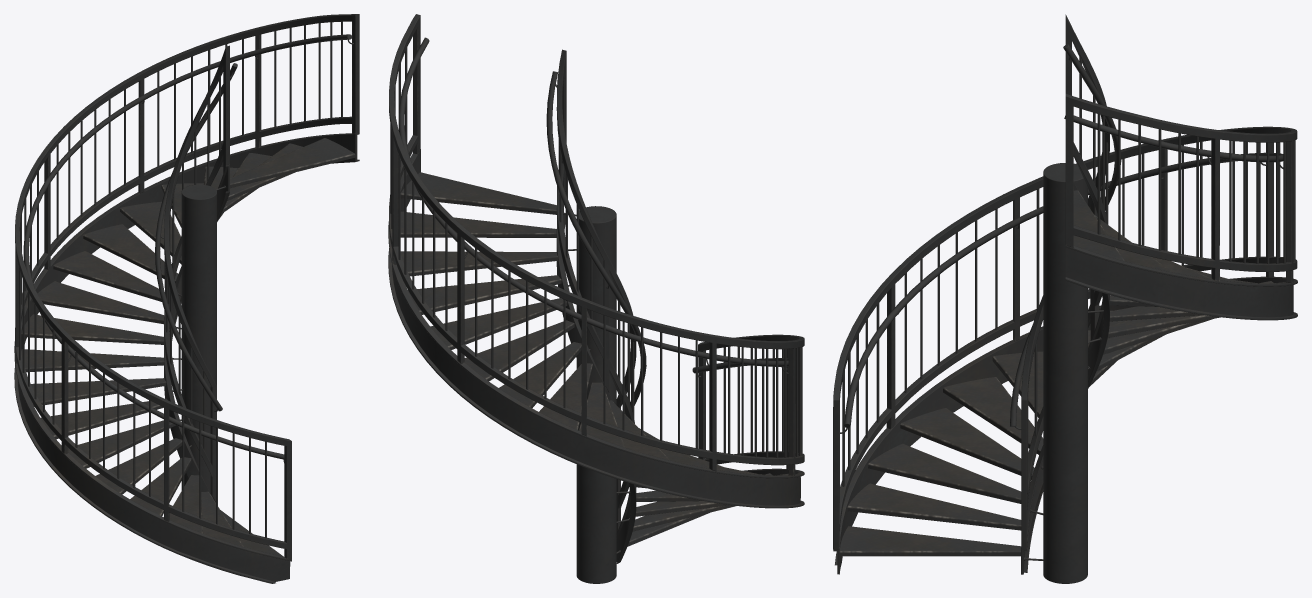
The model's file is Exterior_Staircases_Spiral.obj.
3 renders of one model, left to right at view 1: azimuth 30°, elevation 25°; view 2: azimuth 150°, elevation 25°; view 3: azimuth 270°, elevation 25°, orthographic. The views are drawn at different scales.
Parts seen in each view (by area): view 1: Steps, Side_Rails, Steps_Sides, Side_Rails_Columns, Central_Column, Hand_Rails; view 2: Side_Rails, Steps, Steps_Sides, Side_Rails_Columns, Central_Column, Hand_Rails; view 3: Steps, Side_Rails, Central_Column, Steps_Sides, Side_Rails_Columns, Hand_Rails.
Boxes of the visible parts, x1=… form: Steps: x1=21, y1=138, x2=355, y2=556; Side_Rails: x1=15, y1=14, x2=359, y2=559; Steps_Sides: x1=14, y1=133, x2=359, y2=583; Side_Rails_Columns: x1=19, y1=21, x2=342, y2=538; Central_Column: x1=181, y1=184, x2=216, y2=492; Hand_Rails: x1=23, y1=34, x2=352, y2=459; Side_Rails: x1=389, y1=14, x2=804, y2=532; Steps: x1=400, y1=172, x2=788, y2=546; Steps_Sides: x1=388, y1=149, x2=804, y2=563; Side_Rails_Columns: x1=390, y1=47, x2=802, y2=458; Central_Column: x1=576, y1=206, x2=616, y2=583; Hand_Rails: x1=398, y1=37, x2=788, y2=405; Steps: x1=839, y1=190, x2=1285, y2=556; Side_Rails: x1=833, y1=14, x2=1297, y2=549; Central_Column: x1=1043, y1=163, x2=1087, y2=583; Steps_Sides: x1=833, y1=182, x2=1297, y2=574; Side_Rails_Columns: x1=839, y1=56, x2=1295, y2=502; Hand_Rails: x1=844, y1=44, x2=1283, y2=427.
Bounding box in the file's own units: 366 × 502 × 366.
Materials: 1 (1 with a texture image).
